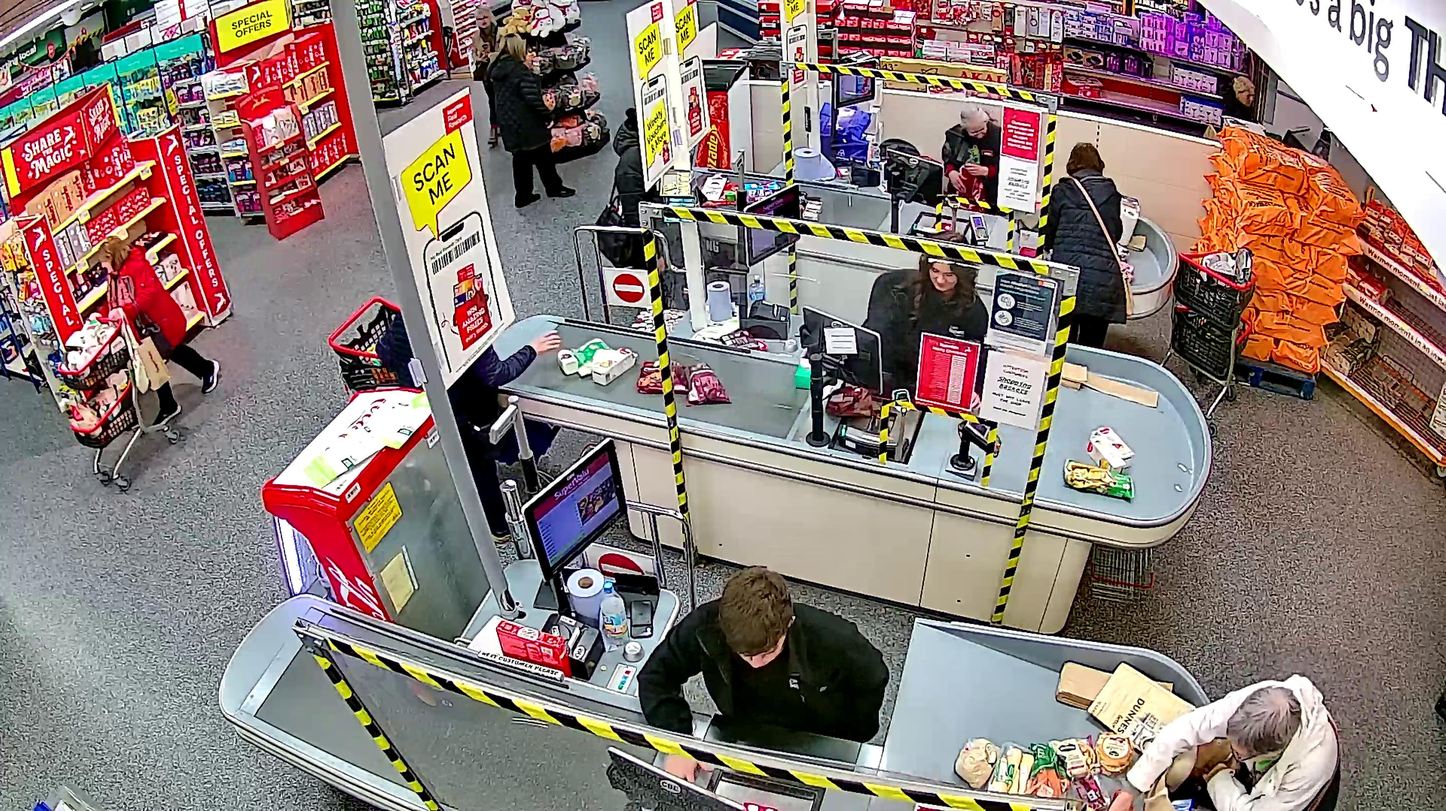backpack-or-handbag: (136, 317, 171, 356)
filled-shopping-bags: (132, 336, 171, 393)
filled-trolly: (57, 318, 180, 490)
occupied-checkout-counter: (519, 438, 915, 811), (712, 181, 1003, 485), (828, 55, 1021, 249)
person: (96, 235, 220, 429)
person-with-basket-trolly-shopping-bag-s-and-backpack-handbag: (57, 235, 219, 490)
